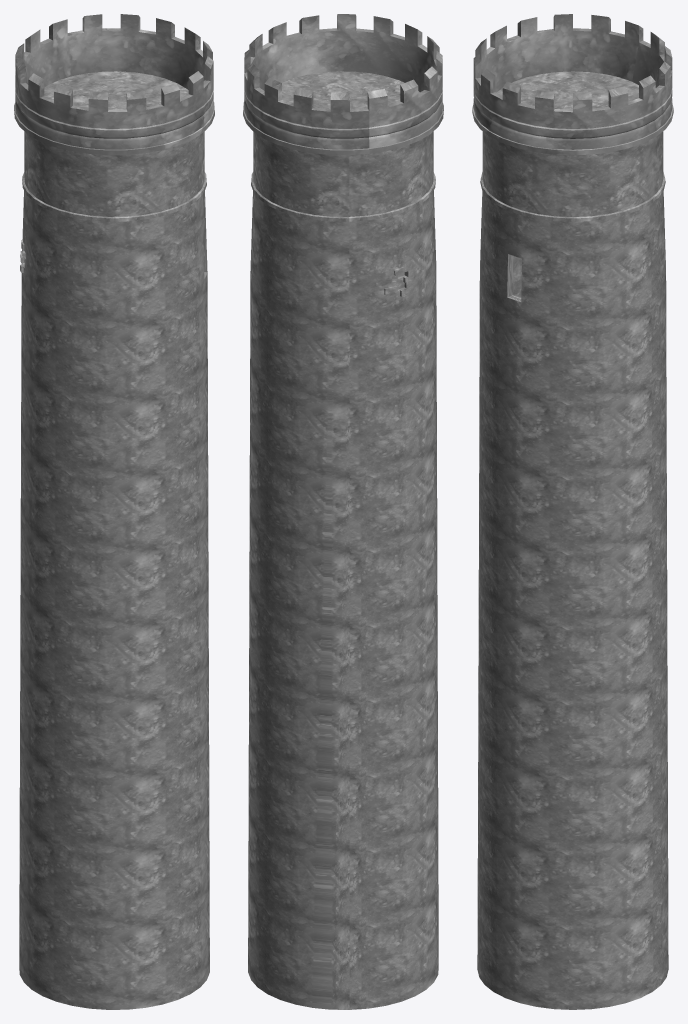
The model's file is SM_VistaCastle_07a.fbx.
The picture shows the model from 3 angles, left to right: view 1: azimuth 30°, elevation 25°; view 2: azimuth 150°, elevation 25°; view 3: azimuth 270°, elevation 25°; orthographic projection.
Parts seen in each view (by area): view 1: SM_VistaCastle_07a_LOD0; view 2: SM_VistaCastle_07a_LOD0; view 3: SM_VistaCastle_07a_LOD0.
Part boxes in pixels (x1,y1,x2,y2): SM_VistaCastle_07a_LOD0: (14, 14, 214, 1009); SM_VistaCastle_07a_LOD0: (243, 14, 443, 1009); SM_VistaCastle_07a_LOD0: (472, 14, 673, 1009).
Bounding box in the file's own units: 648 × 648 × 3256.
